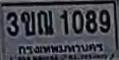0: (72, 9, 83, 33)
1: (60, 9, 67, 34)
3: (6, 11, 18, 35)
8: (85, 9, 96, 32)
9: (98, 8, 110, 32)
A02: (20, 10, 34, 35)
A19: (36, 9, 52, 34)
BKK: (17, 42, 105, 54)
